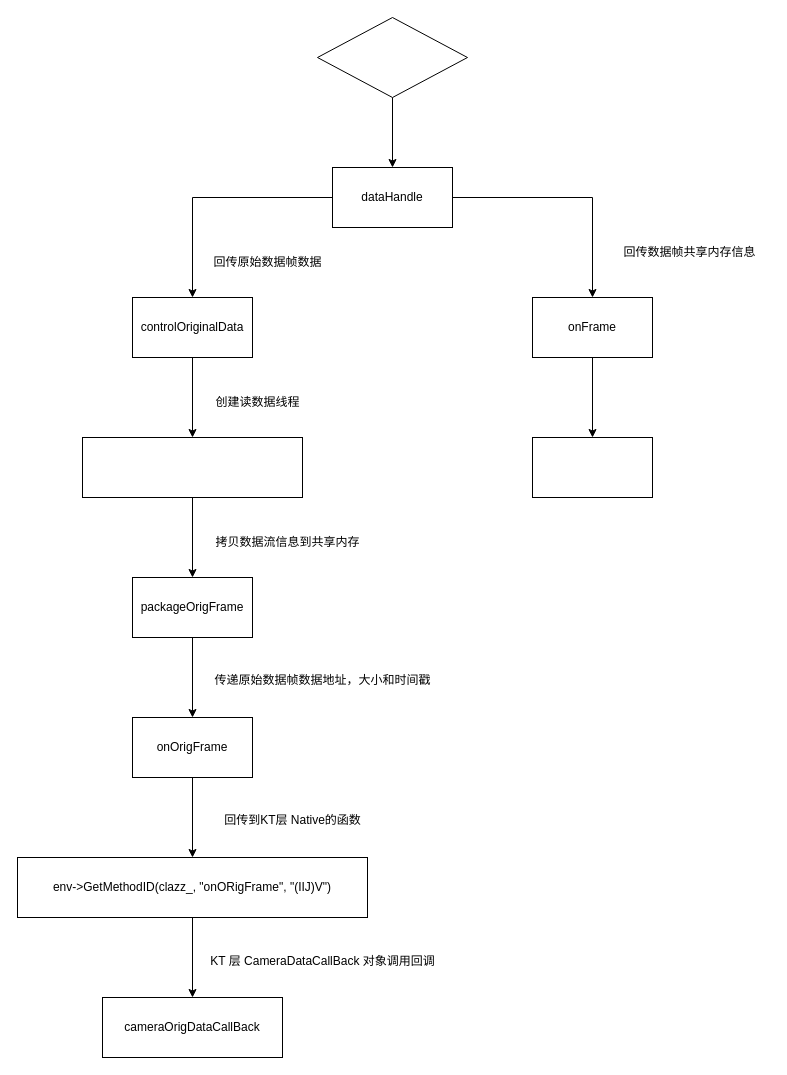
Image size: 787x1075. Some labels were removed from this diagram. The box of each missing label's shape, as (x1, y1, x2, y2) in pixels:
onFrameWithInfo: (532, 436, 652, 498)
orig_thread_(postOrigTask): (82, 436, 302, 498)
start: (316, 16, 468, 98)
